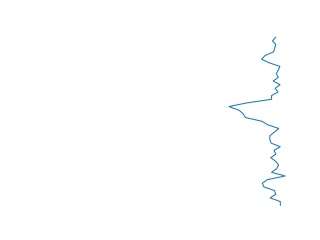interdistributaryEstuary: (224, 38, 293, 204)
